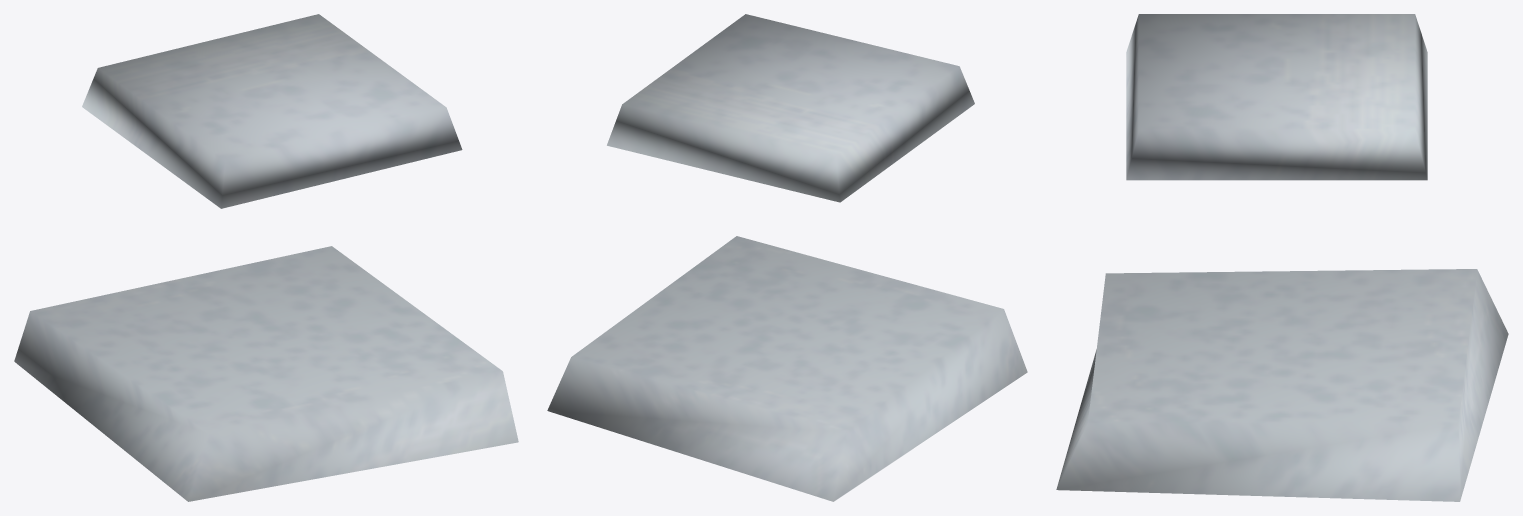
File: Wood_Box_1_Snow.fbx
3 renders of one model, left to right at view 1: azimuth 30°, elevation 25°; view 2: azimuth 150°, elevation 25°; view 3: azimuth 270°, elevation 25°, orthographic. The views are drawn at different scales.
Visible parts, largest first — view 1: Wood_Box_1_Snow; view 2: Wood_Box_1_Snow; view 3: Wood_Box_1_Snow.
Part boxes in pixels (x1=…): Wood_Box_1_Snow: x1=14, y1=14, x2=518, y2=501; Wood_Box_1_Snow: x1=547, y1=14, x2=1027, y2=501; Wood_Box_1_Snow: x1=1056, y1=14, x2=1508, y2=501.
Size of the model in its own units: 100 by 91.21 by 110.
